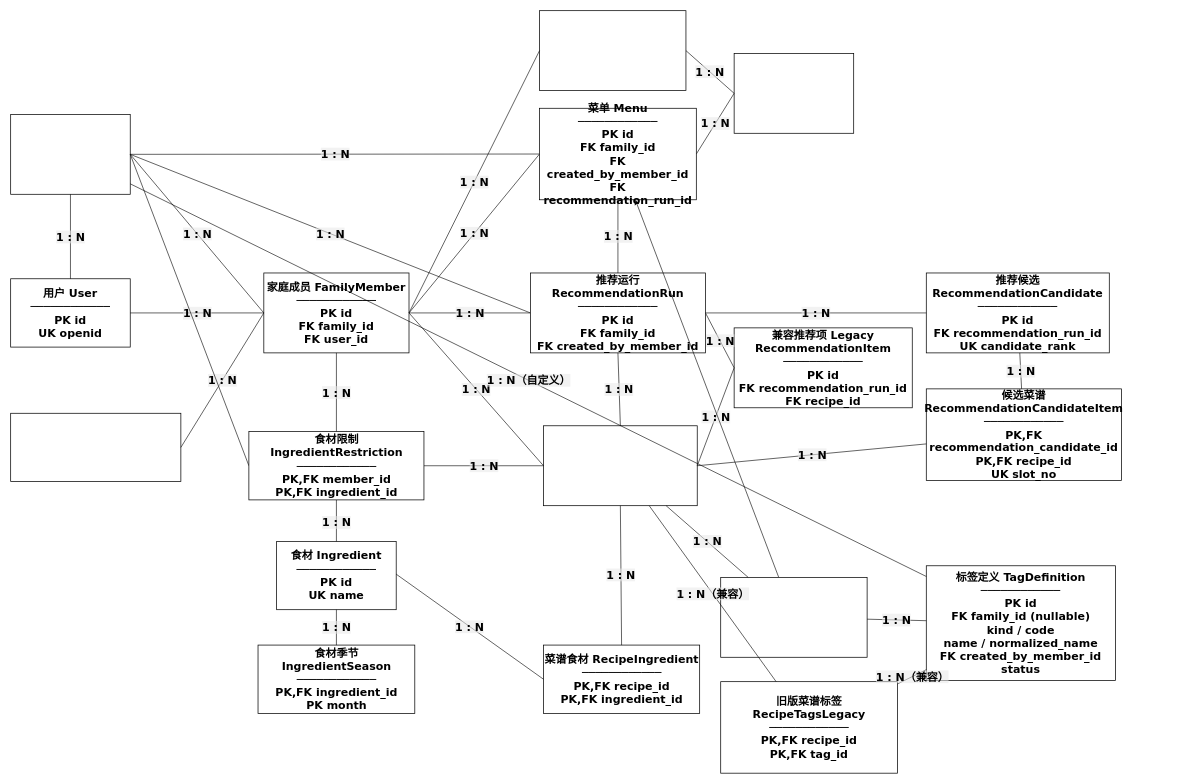
Some shapes in this 1184 by 784 pixel diagram are drawn without their labels. The shapes that lost their labels are listed below. From the top down, each one's centre as x and y in pixels, then its label:
At (x=612, y=50): "用餐反馈 MenuFeedback ──────────── PK id FK menu_item_id FK member_id".
At (x=793, y=93): "菜单项 MenuItem ──────────── PK id FK menu_id FK recipe_id".
At (x=70, y=154): "家庭 Family ──────────── PK id FK owner_user_id UK invite_code".
At (x=95, y=447): "分类偏好 CategoryPreference ──────────── PK,FK member_id PK category".
At (x=620, y=465): "菜谱 Recipe ──────────── PK id FK family_id FK created_by_member_id".
At (x=793, y=617): "菜谱标签 RecipeTag ──────────── PK,FK recipe_id PK,FK tag_id".
